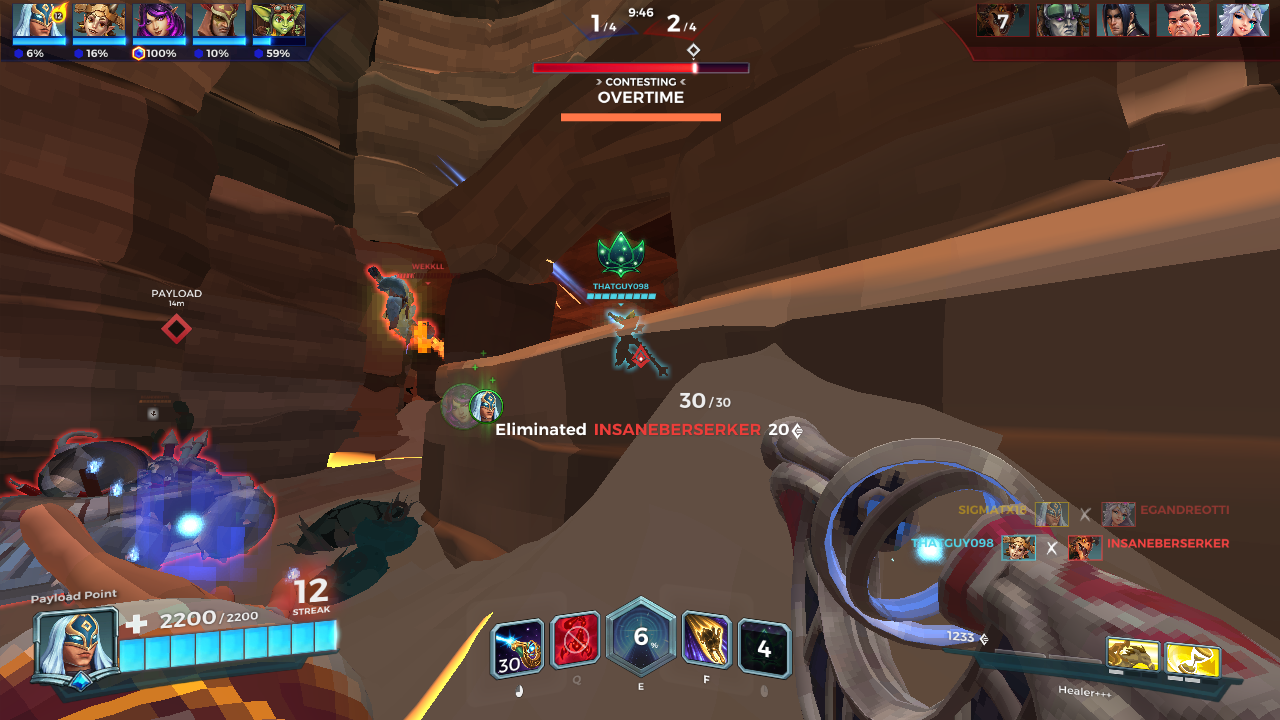model: (361, 263, 447, 355)
